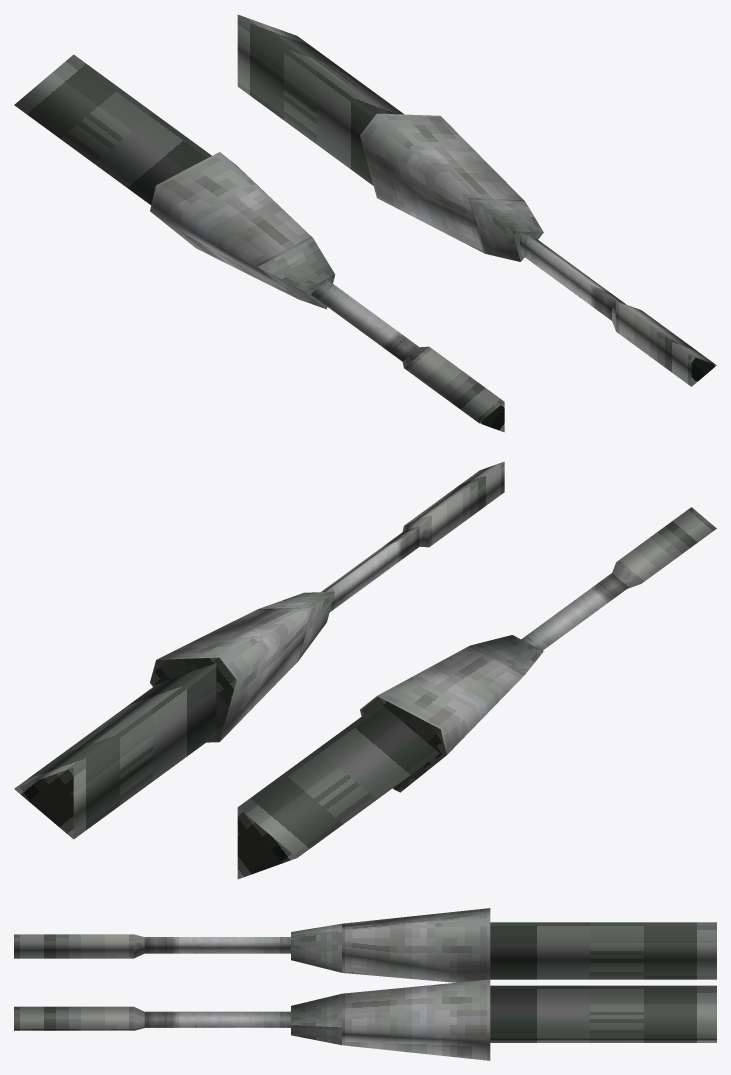
The model's file is bwing_weapon3_s05_l2.fbx.
The picture shows the model from 3 angles, top to bottom: view 1: azimuth 30°, elevation 25°; view 2: azimuth 150°, elevation 25°; view 3: azimuth 270°, elevation 25°; orthographic projection. The views are drawn at different scales.
Visible parts, largest first — view 1: mesh_node; view 2: mesh_node; view 3: mesh_node.
Boxes of the visible parts, bbox=[...] form: mesh_node: bbox=[14, 14, 716, 432]; mesh_node: bbox=[14, 461, 716, 879]; mesh_node: bbox=[14, 908, 716, 1060].
Bounding box in the file's own units: 1.14 × 0.3345 × 2.94.
1 material, 1 textured.
